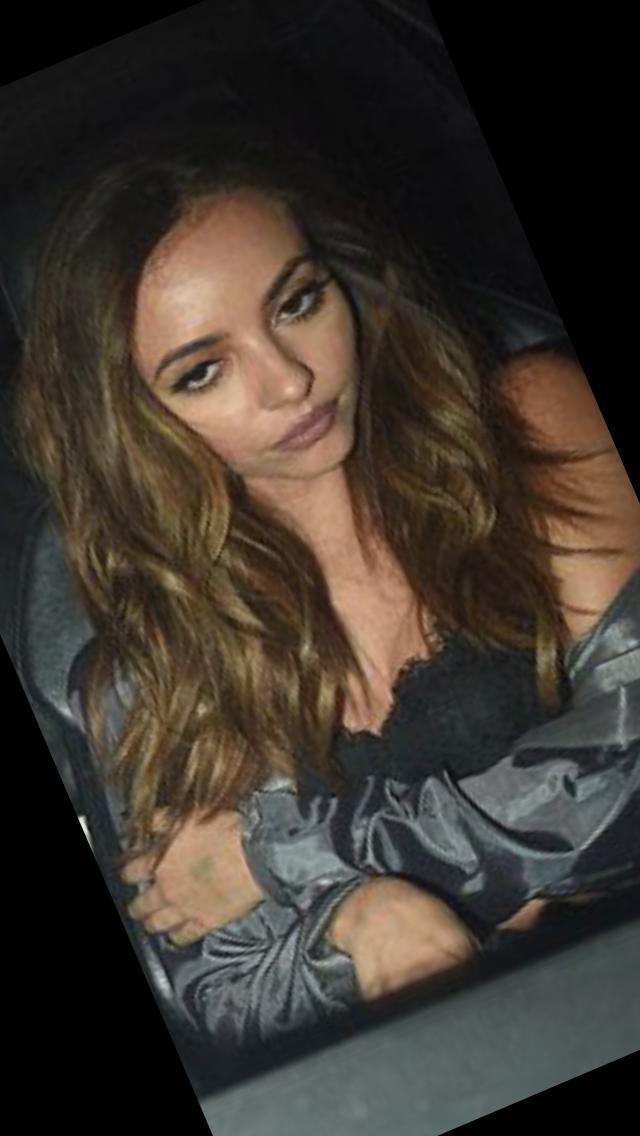Drunk: (133, 243, 371, 471)
